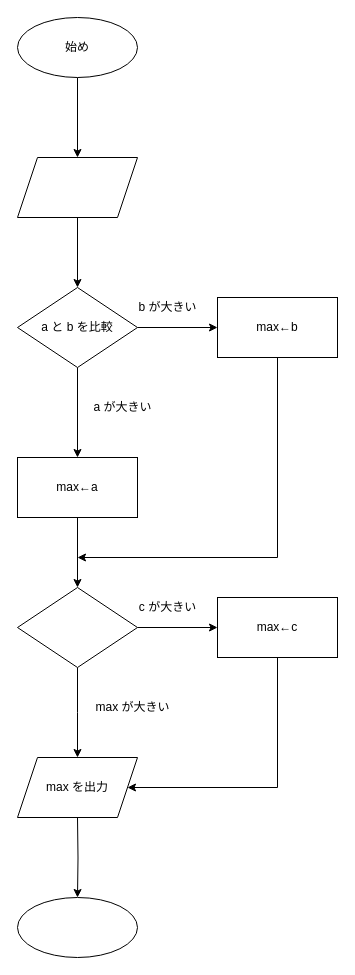
This 355x975 diagram has some shape labels left out. The shapes that lost their labels are listed below. From the top down, each one's centre as x and y in pixels, then its label:
(x=77, y=187): 3つの整数 a, b, c を読み込む
(x=77, y=627): max と c を比較
(x=77, y=927): 終わり
